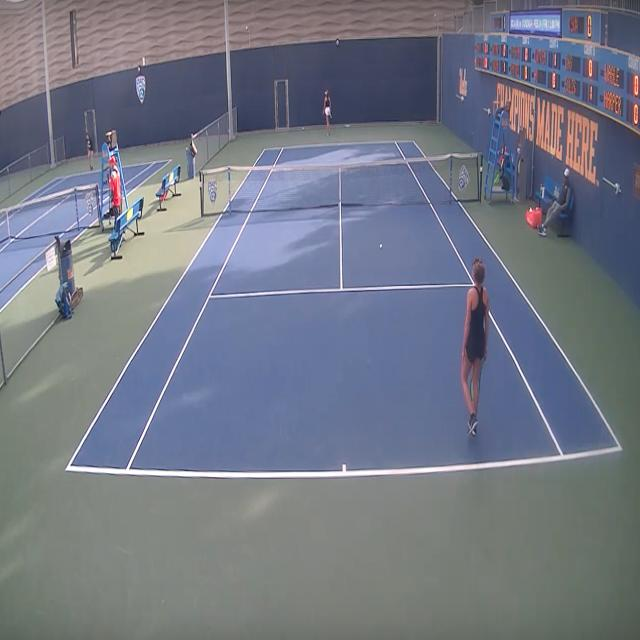ball: (379, 242, 383, 250), (303, 127, 304, 130)
